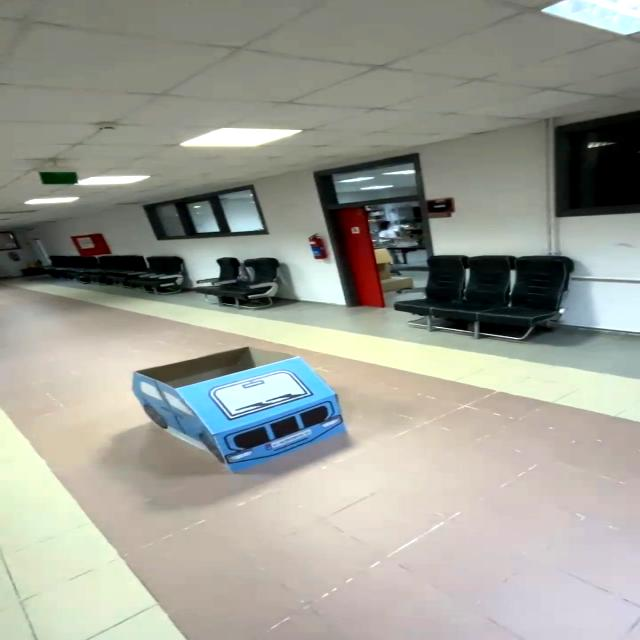blue_car: (100, 331, 407, 483)
